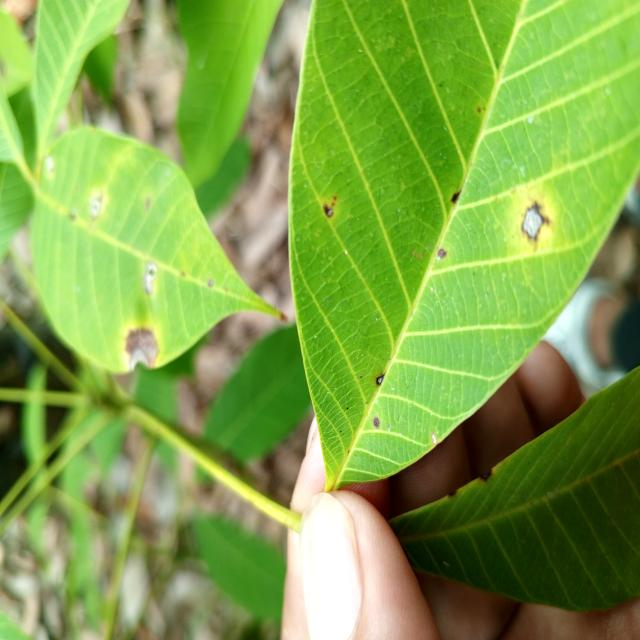Colletotrichum: (376, 374, 384, 386), (438, 249, 445, 259), (374, 418, 379, 427)
